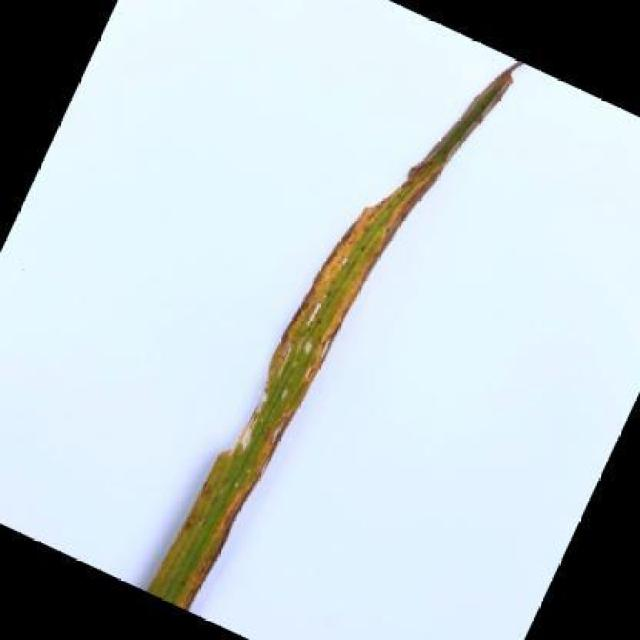Rice False Smut: (140, 11, 538, 640)
